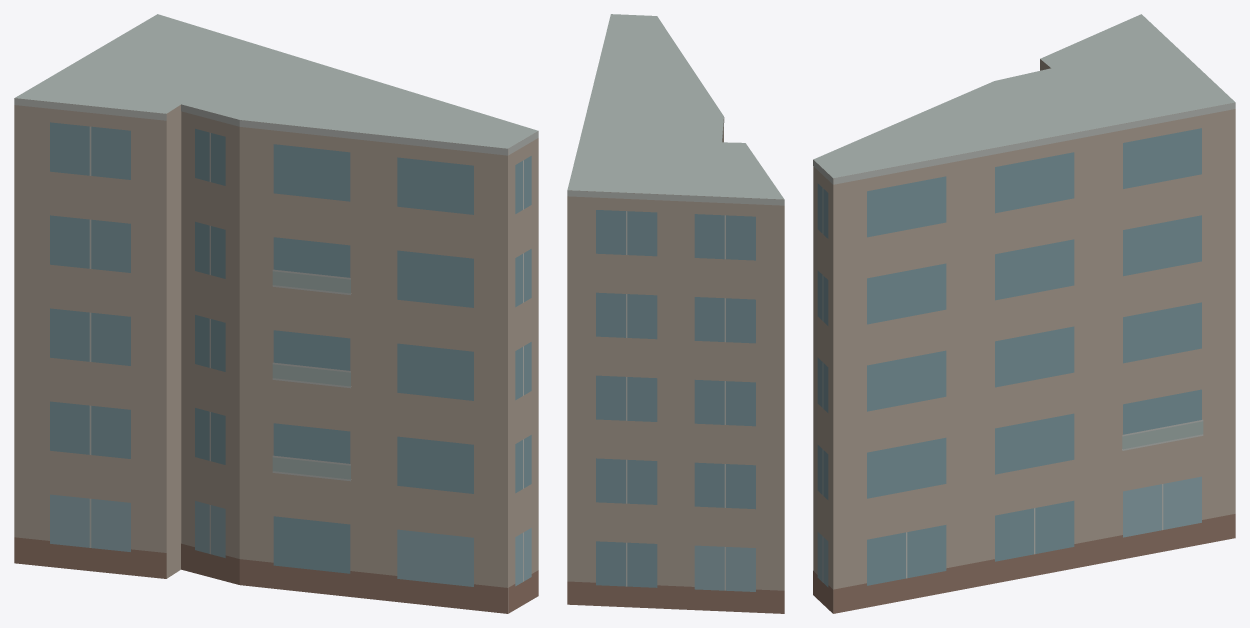
File: survey-upis-33015879.glb
3 views of the same model, side by side, from view 1: azimuth 30°, elevation 25°; view 2: azimuth 150°, elevation 25°; view 3: azimuth 270°, elevation 25° (orthographic). The views are drawn at different scales.
Parts seen in each view (by area): view 1: survey-upis-33015879.tmp; view 2: survey-upis-33015879.tmp; view 3: survey-upis-33015879.tmp.
Part boxes in pixels (bbox=[...]): survey-upis-33015879.tmp: bbox=[14, 14, 538, 613]; survey-upis-33015879.tmp: bbox=[567, 14, 784, 613]; survey-upis-33015879.tmp: bbox=[813, 14, 1235, 613].
Size of the model in its own units: 13.25 by 16.36 by 14.39.
